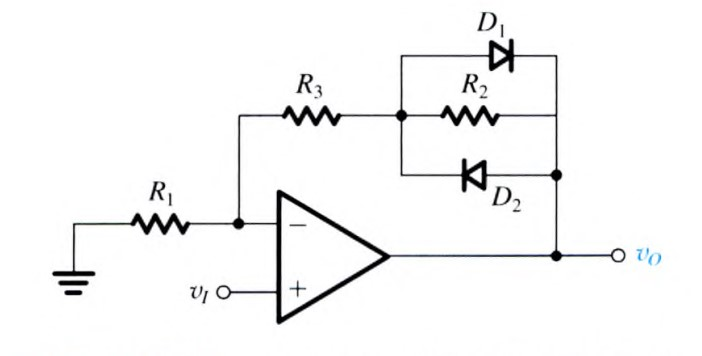diode: (455, 152, 493, 197), (481, 33, 519, 75)
gnd: (46, 261, 101, 300)
op: (267, 180, 398, 329)
resistor: (273, 96, 348, 134), (433, 96, 507, 134), (122, 205, 196, 241)
